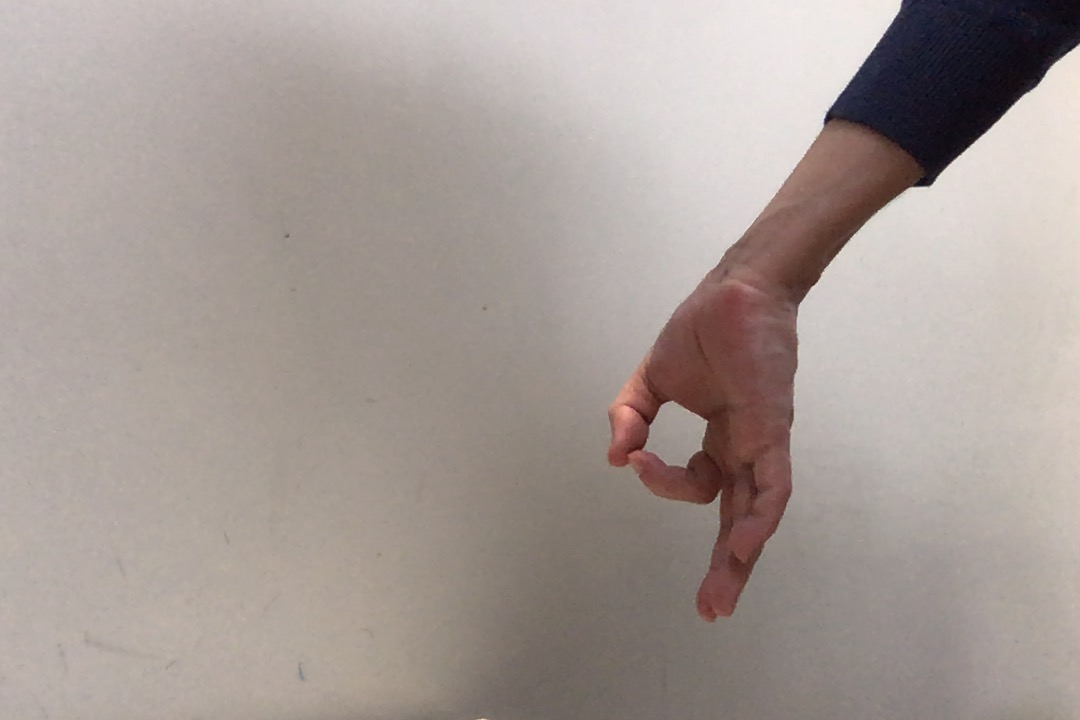oksign: (598, 266, 803, 630)
